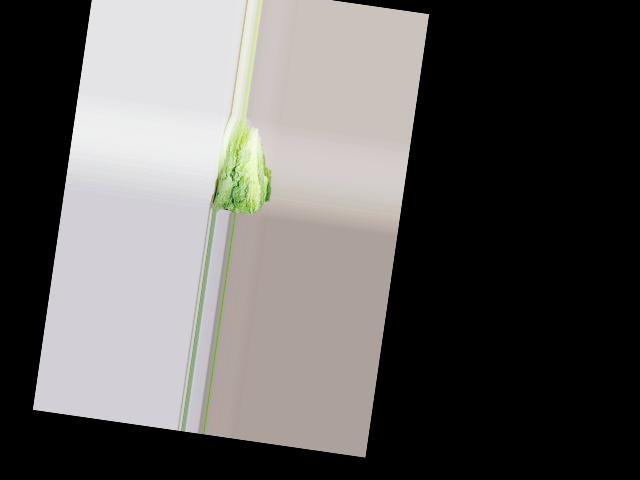lettuce: (209, 118, 273, 218)
